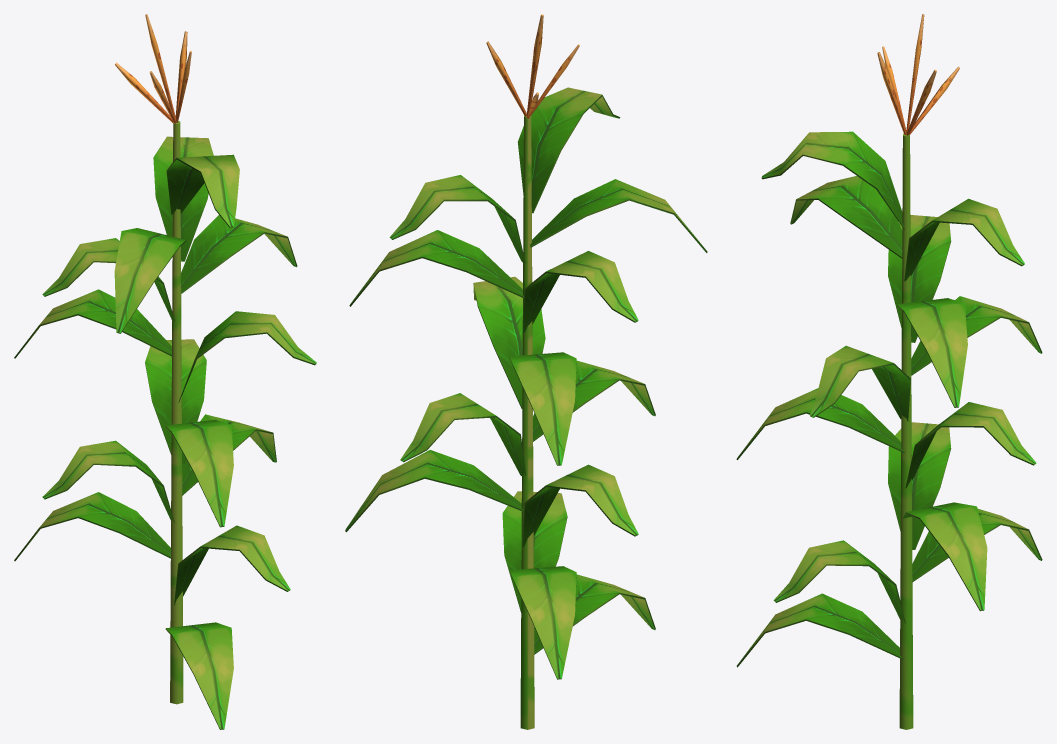
Rendered from Crop1.fbx.
3 views of the same model, side by side, from view 1: azimuth 30°, elevation 25°; view 2: azimuth 150°, elevation 25°; view 3: azimuth 270°, elevation 25° (orthographic). The views are drawn at different scales.
Parts seen in each view (by area): view 1: Crop1; view 2: Crop1; view 3: Crop1.
Boxes of the visible parts, <box> form: Crop1: <box>14,14,316,729</box>; Crop1: <box>345,14,707,729</box>; Crop1: <box>736,14,1042,729</box>.
Size of the model in its own units: 84.75 by 211 by 83.37.
